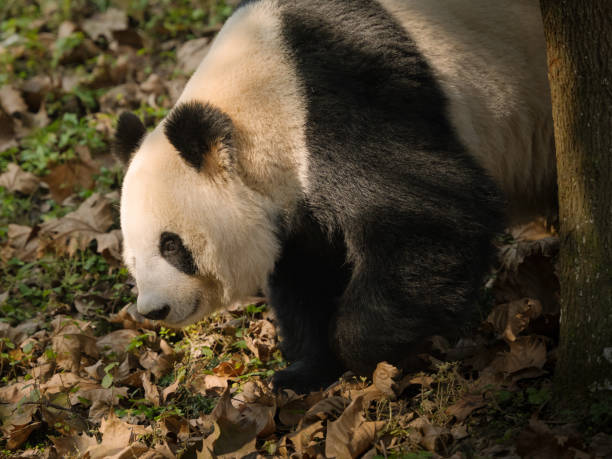panda: (80, 85, 318, 335)
